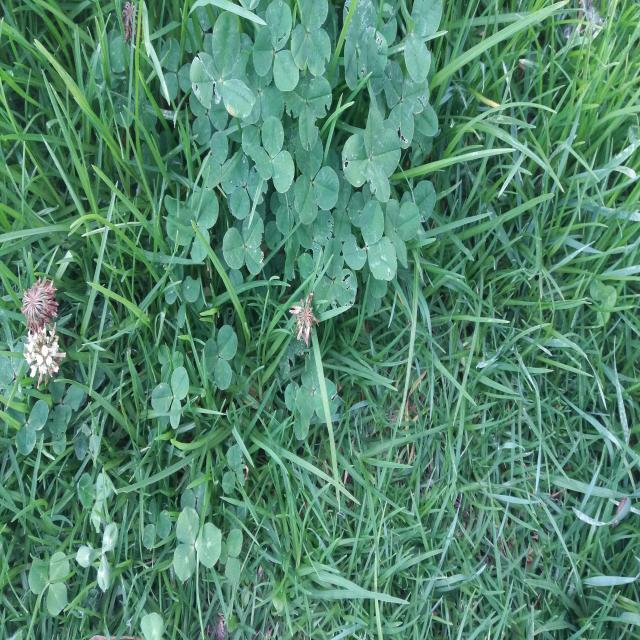Four Leaf Clover: (342, 106, 401, 203)
